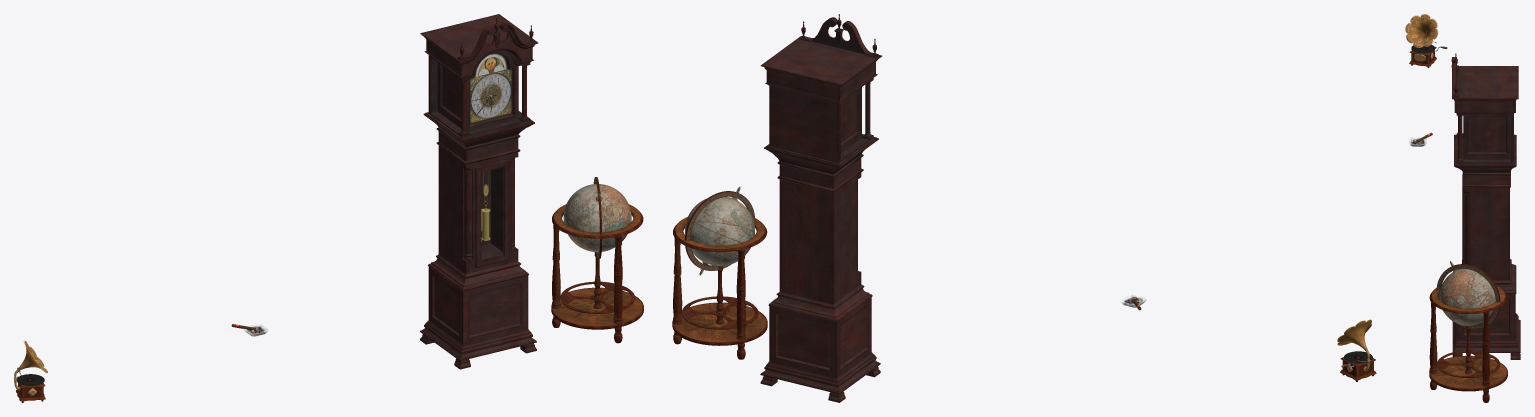
The model's file is railcar-interactive-props.glb.
3 renders of one model, left to right at view 1: azimuth 30°, elevation 25°; view 2: azimuth 150°, elevation 25°; view 3: azimuth 270°, elevation 25°, orthographic. The views are drawn at different scales.
Parts seen in each view (by area): view 1: replacement clock cabinet, replacement globe stand, replacement globe sphere, replacement clock door, gramophone Rigdhi cabinet and horn; view 2: replacement clock cabinet, replacement globe stand, replacement globe sphere, gramophone Rigdhi cabinet and horn; view 3: replacement clock cabinet, replacement globe stand, replacement globe sphere, gramophone Rigdhi cabinet and horn, replacement clock door, gramophone record, replacement cigar Ashtray_Ashtray1_0.
Part boxes in pixels (left/top/right/bottom): replacement clock cabinet: left=420, top=14, right=538, bottom=369; replacement globe stand: left=551, top=177, right=643, bottom=343; replacement globe sphere: left=563, top=184, right=631, bottom=252; replacement clock door: left=475, top=159, right=509, bottom=267; gramophone Rigdhi cabinet and horn: left=14, top=341, right=47, bottom=402; replacement clock cabinet: left=760, top=14, right=881, bottom=402; replacement globe stand: left=672, top=186, right=767, bottom=359; replacement globe sphere: left=685, top=196, right=754, bottom=265; gramophone Rigdhi cabinet and horn: left=1337, top=319, right=1376, bottom=381; replacement clock cabinet: left=1451, top=53, right=1520, bottom=359; replacement globe stand: left=1429, top=261, right=1507, bottom=402; replacement globe sphere: left=1439, top=268, right=1495, bottom=325; gramophone Rigdhi cabinet and horn: left=1405, top=14, right=1438, bottom=67; replacement clock door: left=1462, top=175, right=1463, bottom=263; gramophone record: left=1411, top=44, right=1435, bottom=53; replacement cigar Ashtray_Ashtray1_0: left=1408, top=137, right=1426, bottom=146.
Size of the model in its own units: 46.33 by 23.29 by 8.42.
Materials: 6 (6 with a texture image).
